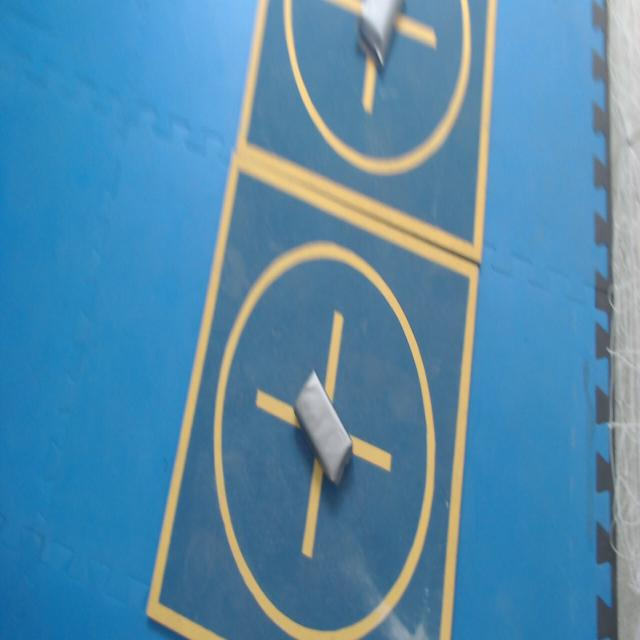direita: (360, 0, 403, 67)
esquerda: (294, 371, 352, 484)
